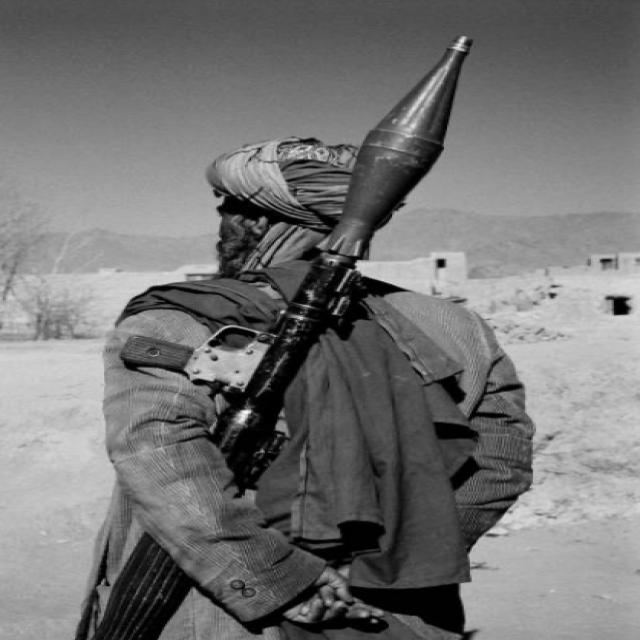bazooka: (161, 17, 526, 505)
